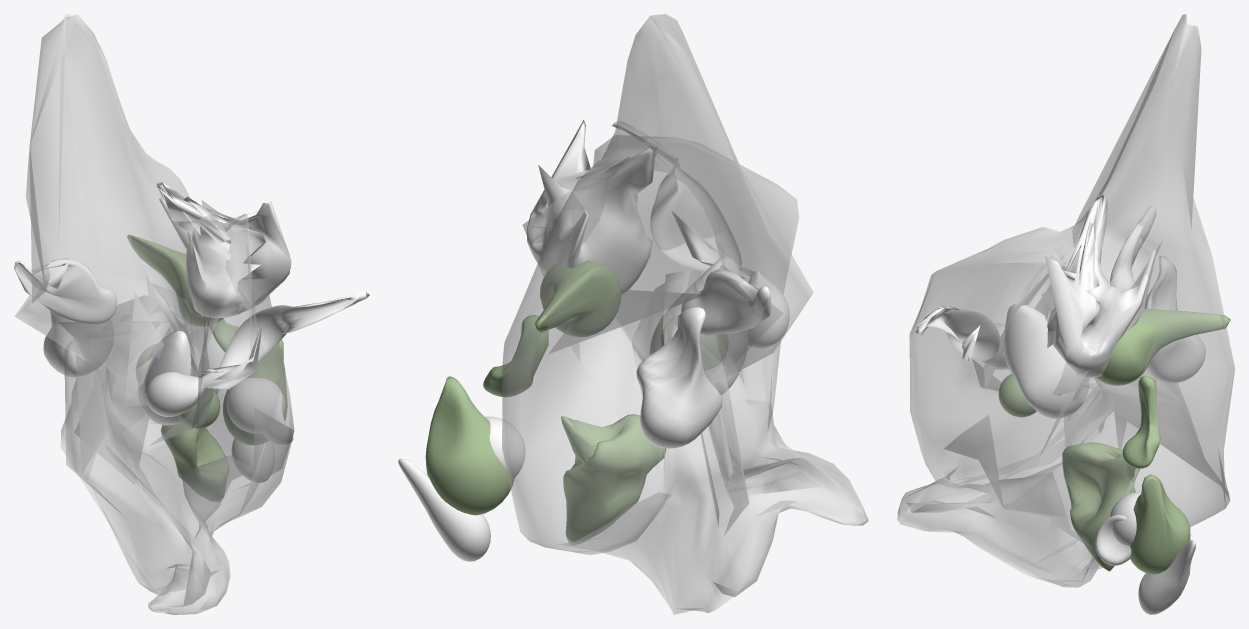
The model's file is vas.gltf.
3 views of the same model, side by side, from view 1: azimuth 30°, elevation 25°; view 2: azimuth 150°, elevation 25°; view 3: azimuth 270°, elevation 25° (orthographic). The views are drawn at different scales.
Visible parts, largest first — view 1: Sphere.015, Sphere.012; view 2: Sphere.015, Sphere.012; view 3: Sphere.015, Sphere.012.
Boxes of the visible parts, box(x1,y1,x2,y2) form: Sphere.015: box(15, 14, 294, 614); Sphere.012: box(14, 181, 369, 501); Sphere.015: box(502, 14, 868, 614); Sphere.012: box(398, 120, 789, 561); Sphere.015: box(897, 14, 1234, 587); Sphere.012: box(915, 195, 1230, 614).
Size of the model in its own units: 7.48 by 13.21 by 7.31.
